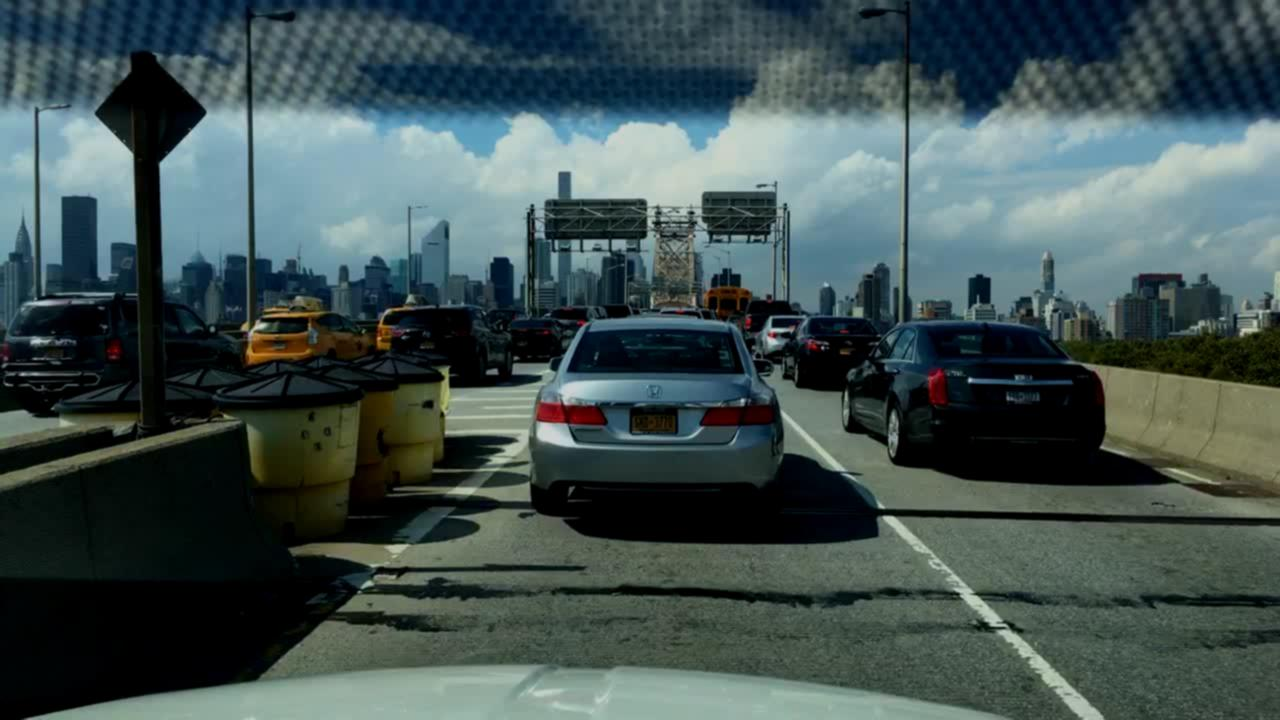Honda: (645, 382, 667, 402)
cadillac: (1009, 369, 1038, 388)
